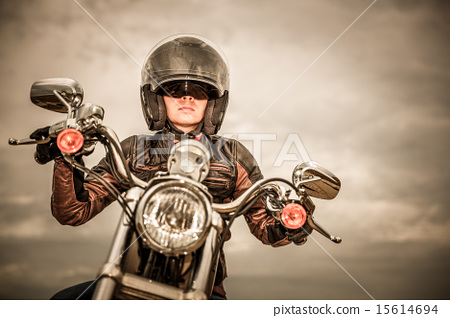helmet: (137, 43, 232, 138)
